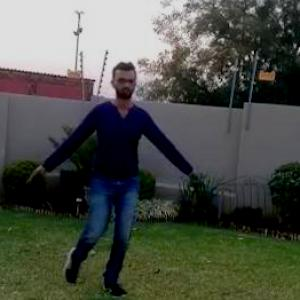land: (40, 78, 175, 263)
